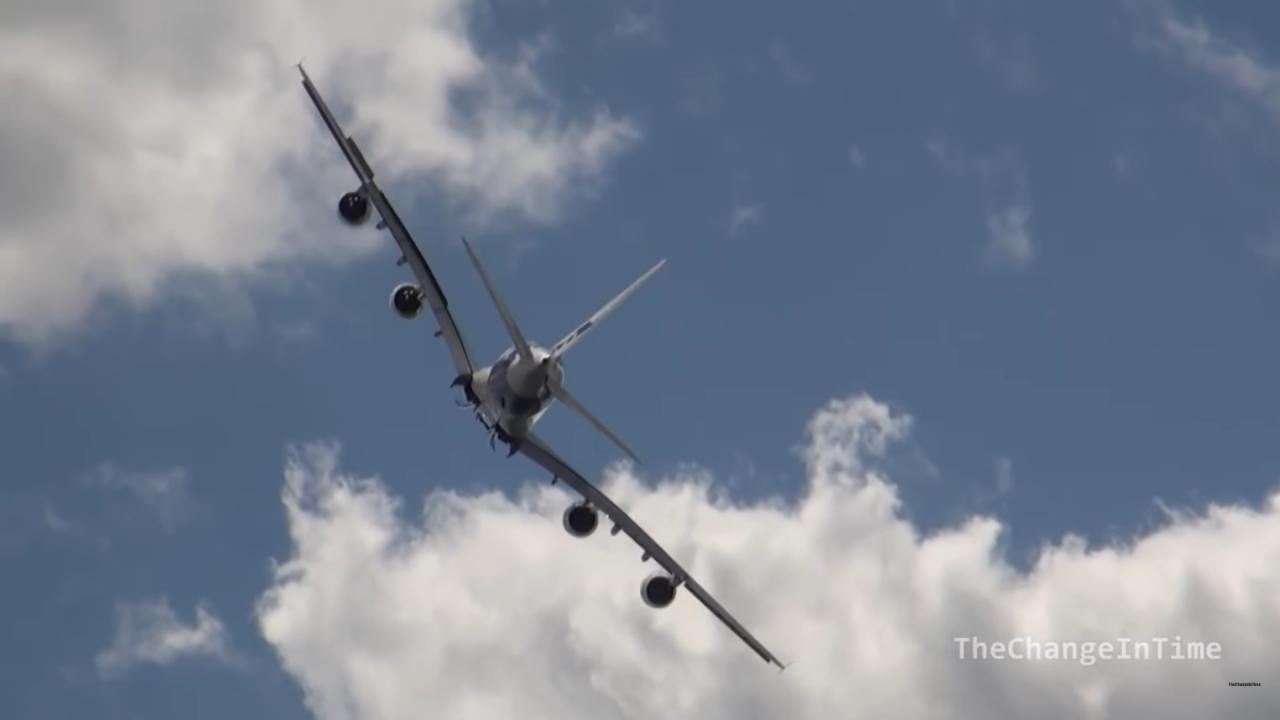Airplane: (283, 47, 797, 682)
